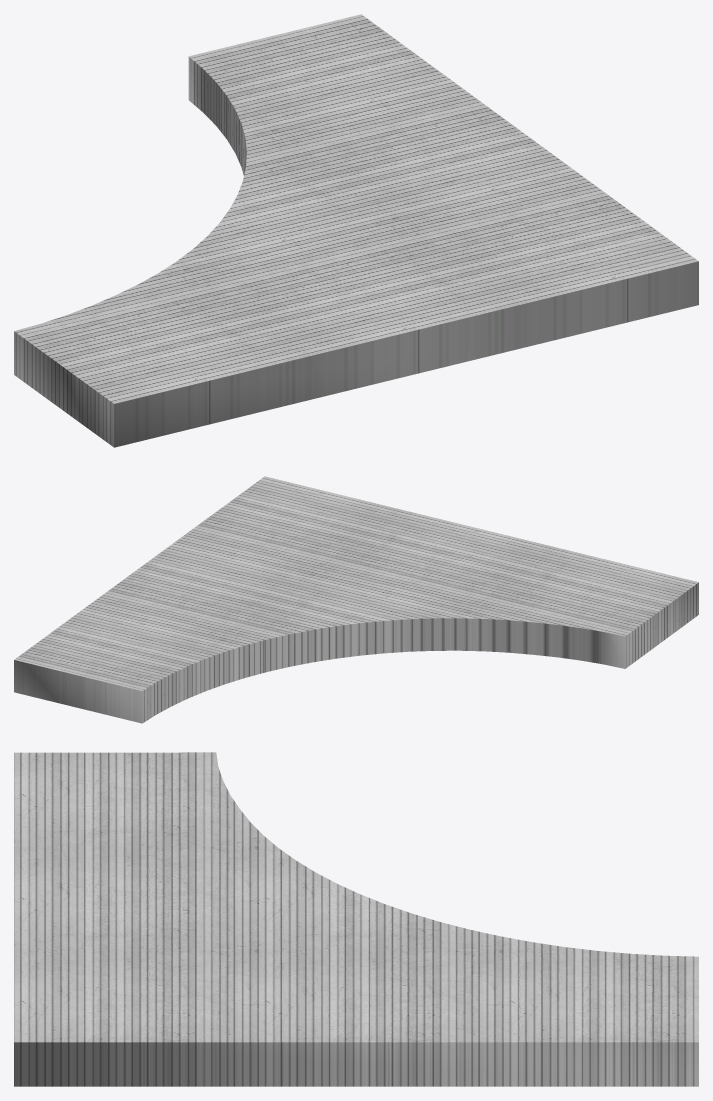
File: Emb_Window_02_Roof.FBX
3 renders of one model, top to bottom at view 1: azimuth 30°, elevation 25°; view 2: azimuth 150°, elevation 25°; view 3: azimuth 270°, elevation 25°, orthographic. The views are drawn at different scales.
Visible parts, largest first — view 1: Emb_Window_02_Roof; view 2: Emb_Window_02_Roof; view 3: Emb_Window_02_Roof.
Part boxes in pixels (x1,y1,x2,y2): Emb_Window_02_Roof: (14, 14, 698, 447); Emb_Window_02_Roof: (14, 476, 698, 723); Emb_Window_02_Roof: (14, 752, 698, 1086).
Size of the model in its own units: 14.01 by 1 by 14.
